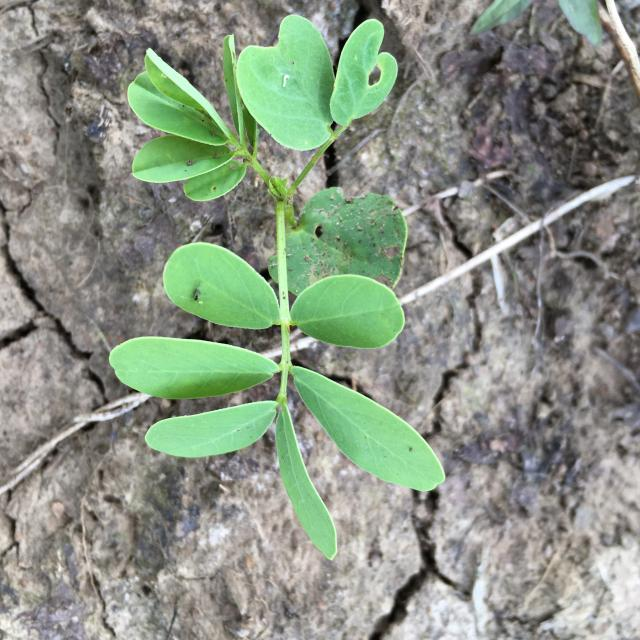Sicklepod: (109, 14, 446, 560)
